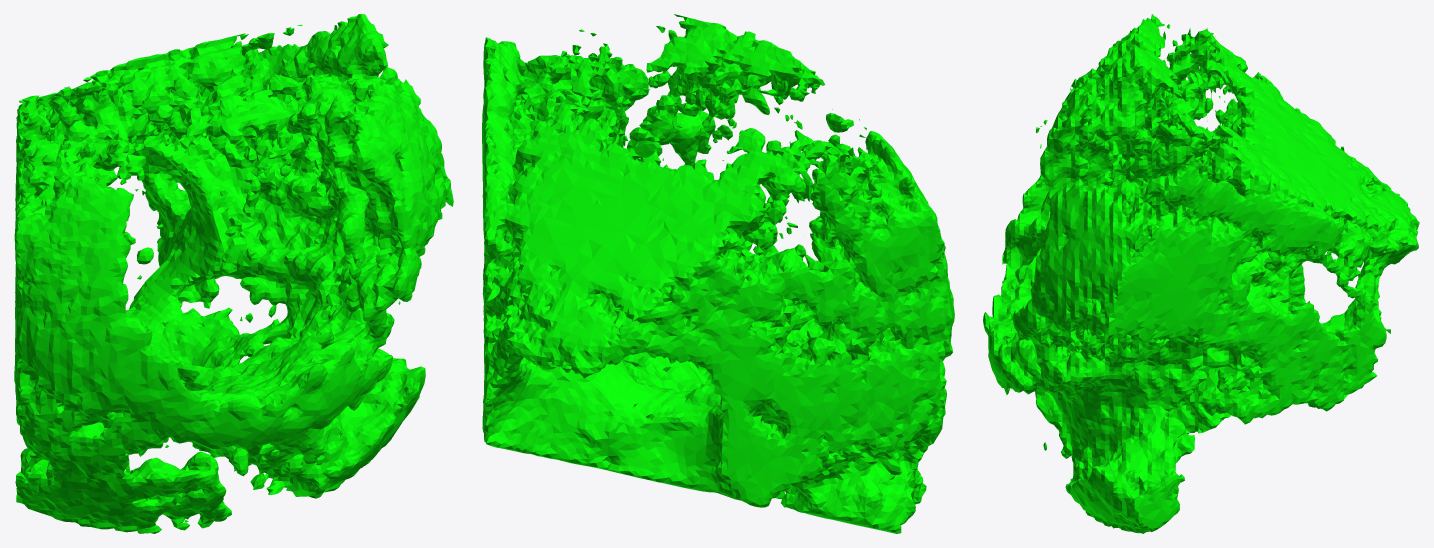
Rendered from B939XXXX-1_base_15.obj.
3 renders of one model, left to right at view 1: azimuth 30°, elevation 25°; view 2: azimuth 150°, elevation 25°; view 3: azimuth 270°, elevation 25°, orthographic. The views are drawn at different scales.
Parts seen in each view (by area): view 1: 15_base; view 2: 15_base; view 3: 15_base.
Part boxes in pixels (x1=…): 15_base: x1=14, y1=14, x2=453, y2=533; 15_base: x1=482, y1=14, x2=954, y2=533; 15_base: x1=983, y1=14, x2=1419, y2=533.
Bounding box in the file's own units: 217 × 219 × 205.
